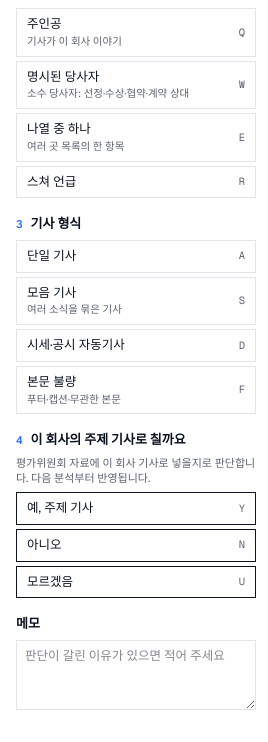
Test: JudgmentWorkbench › keeps the analyzer's answer hidden until the verdict is saved, then shows it
The width and height of the screenshot is (268, 742).
(page scrolled)
Expected: the text "분석기: 보류 · 확신 0.45 · LLM · 실행 #312" is not shown
Step 1. Click the radio button labelled "예, 주제 기사 Y" → (136, 508), box [16, 492, 256, 525]
(page scrolled)
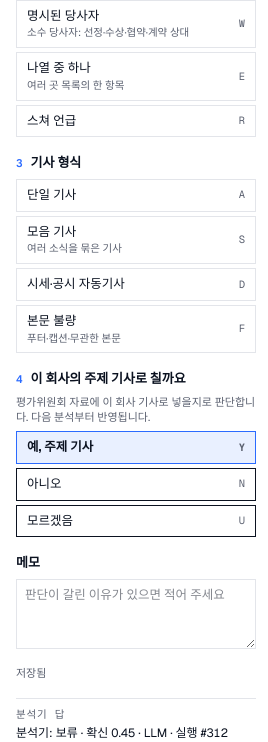
Result: the text "분석기: 보류 · 확신 0.45 · LLM · 실행 #312" is shown at [16, 724, 256, 741]
